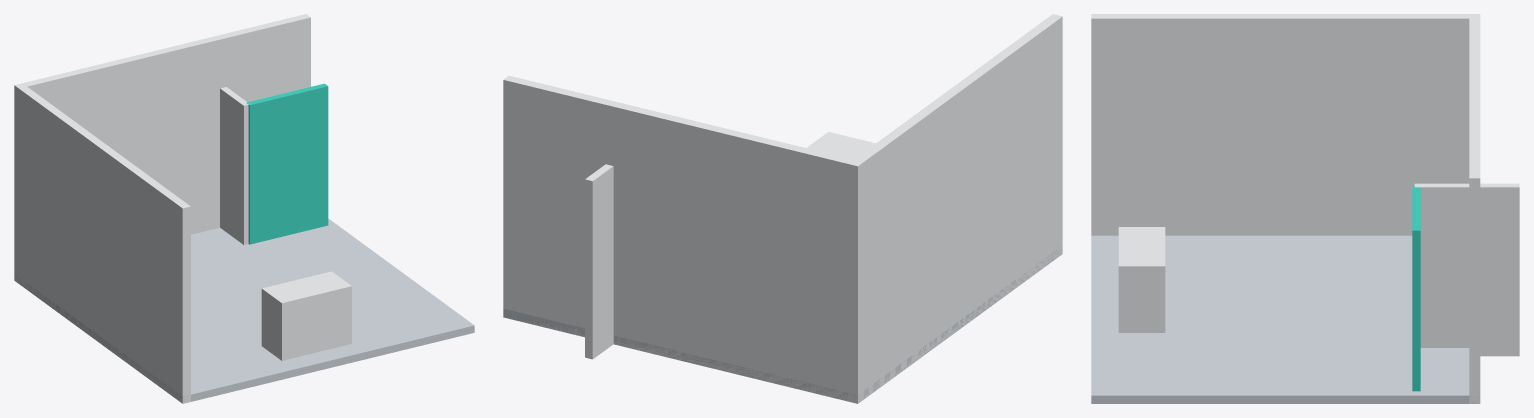
3 views of the same model, side by side, from view 1: azimuth 30°, elevation 25°; view 2: azimuth 150°, elevation 25°; view 3: azimuth 270°, elevation 25° (orthographic). The views are drawn at different scales.
Parts seen in each view (by area): view 1: Exhibition Booth Concept; view 2: Exhibition Booth Concept; view 3: Exhibition Booth Concept.
Part boxes in pixels (x1,y1,x2,y2): Exhibition Booth Concept: (14, 14, 474, 403); Exhibition Booth Concept: (503, 14, 1062, 403); Exhibition Booth Concept: (1091, 14, 1519, 403).
Bounding box in the file's own units: 5 × 3.2 × 5.51.
